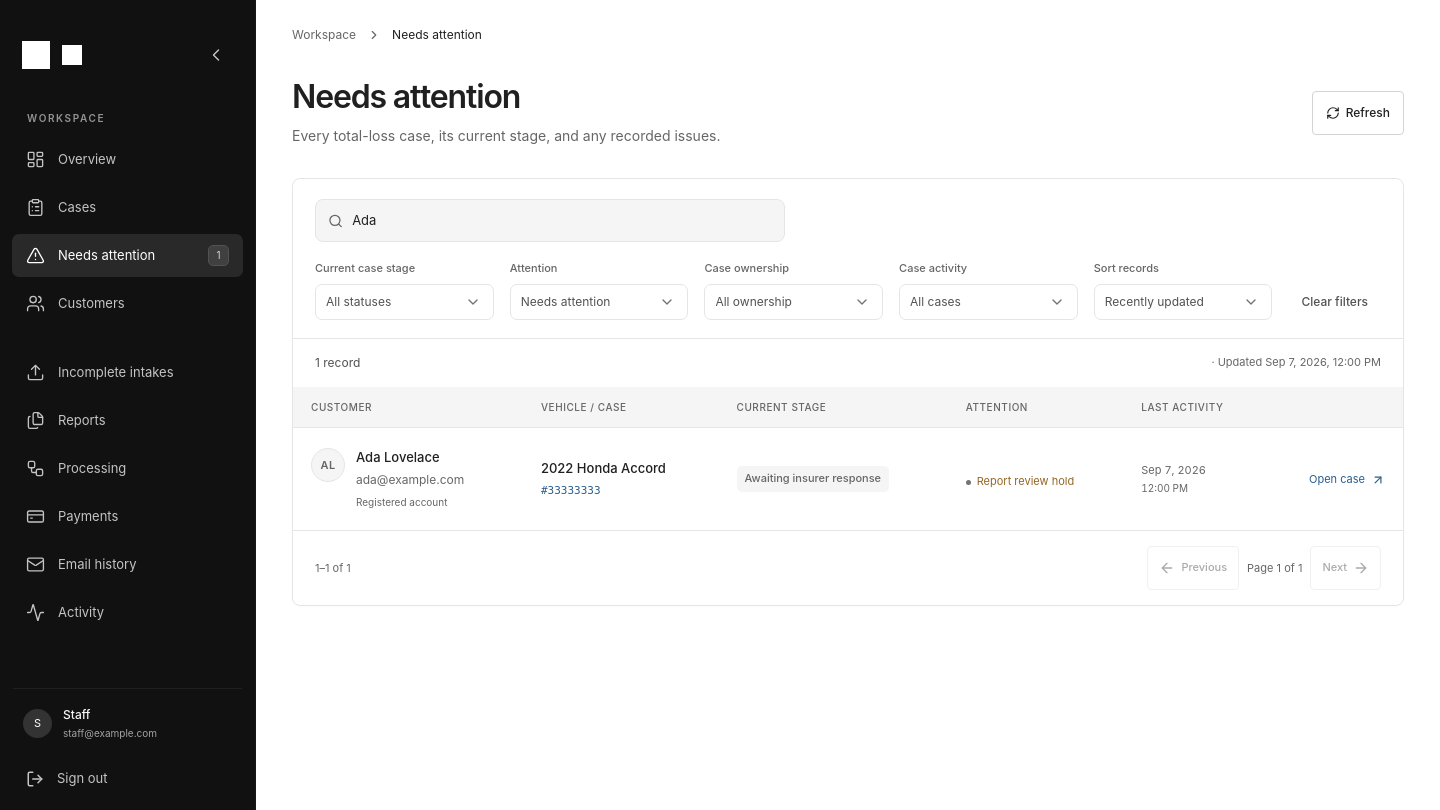
admin operations workspace › opens case details and returns to the same attention filter and search
The width and height of the screenshot is (1440, 810).
Click the link "Open case".
click(1347, 480)  # box [1309,471,1385,488]
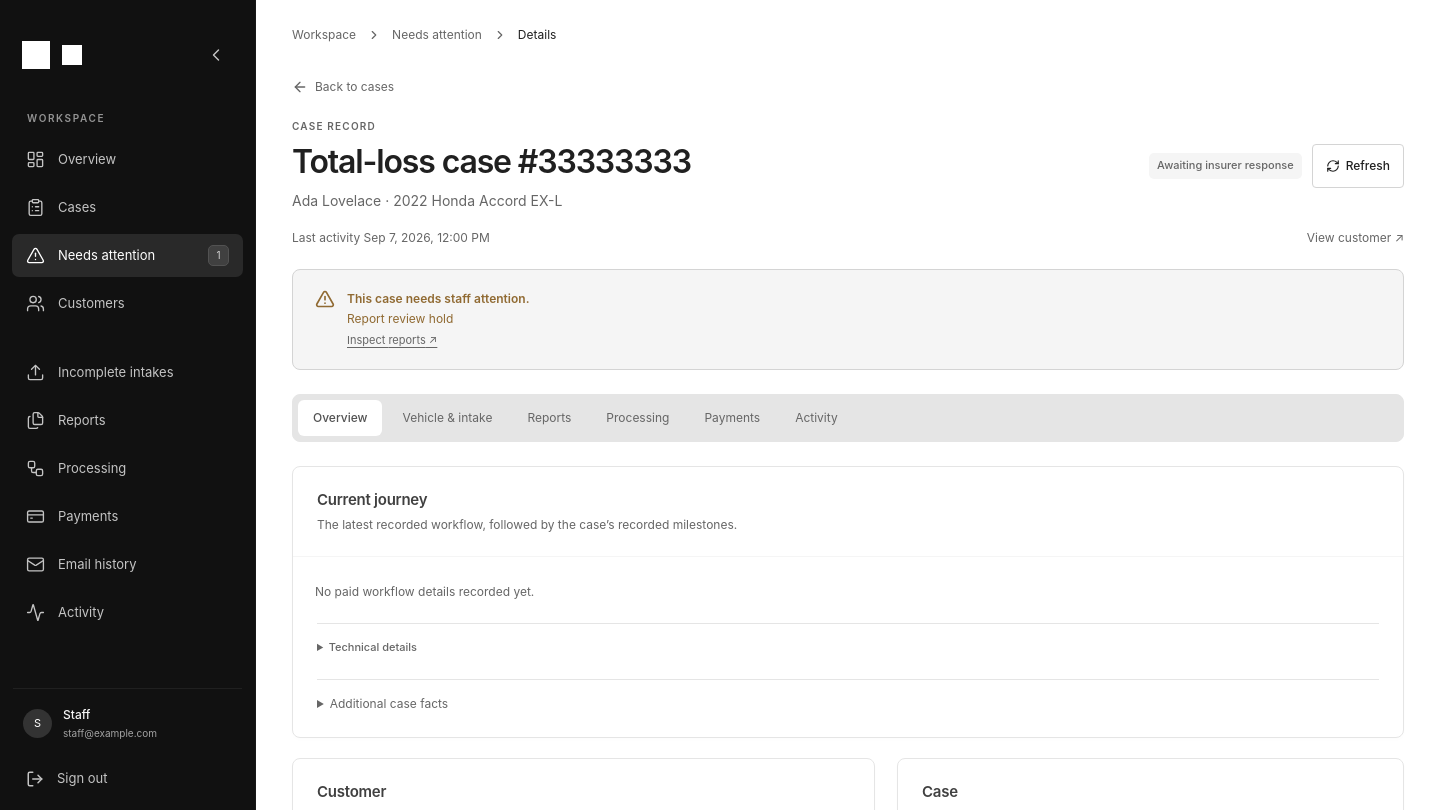
Expected: the heading "Total-loss case #33333333" is shown, [292,143,691,181]
Click the tab "Reports".
click(549, 418)  # box [512,400,586,436]
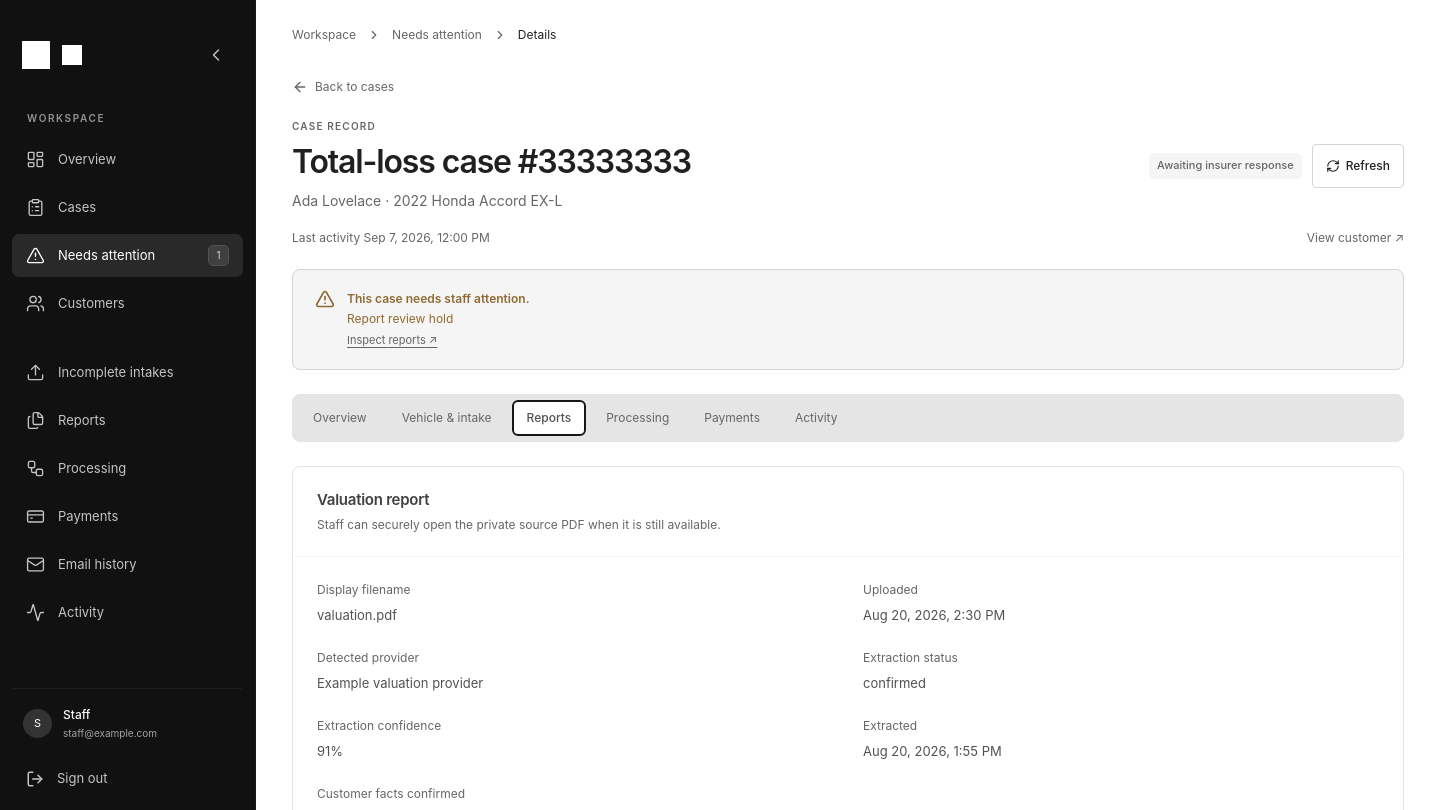
Click the link "Back to cases".
click(343, 87)  # box [292,78,394,96]
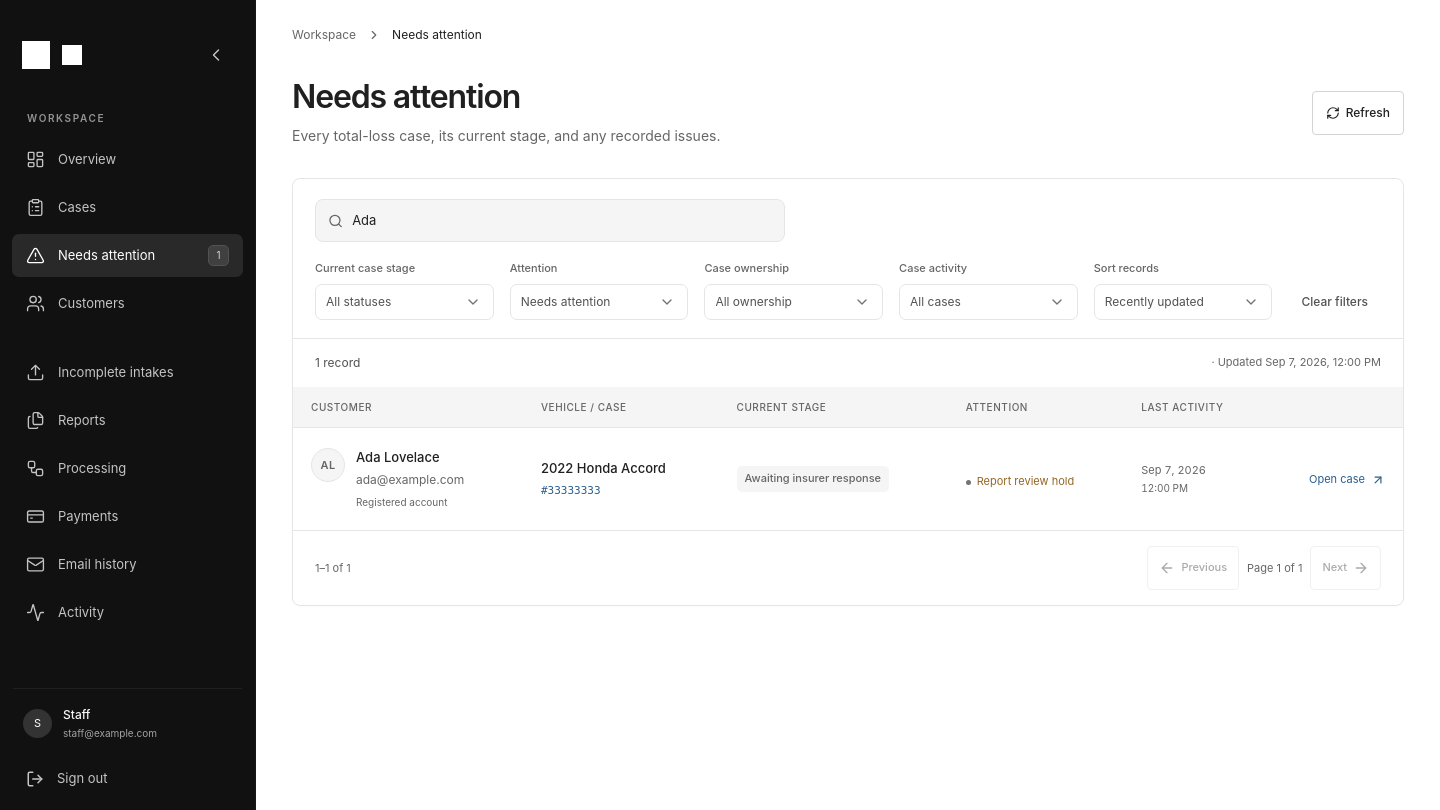
Expected: the heading "Needs attention" is shown, [292,77,520,116]
